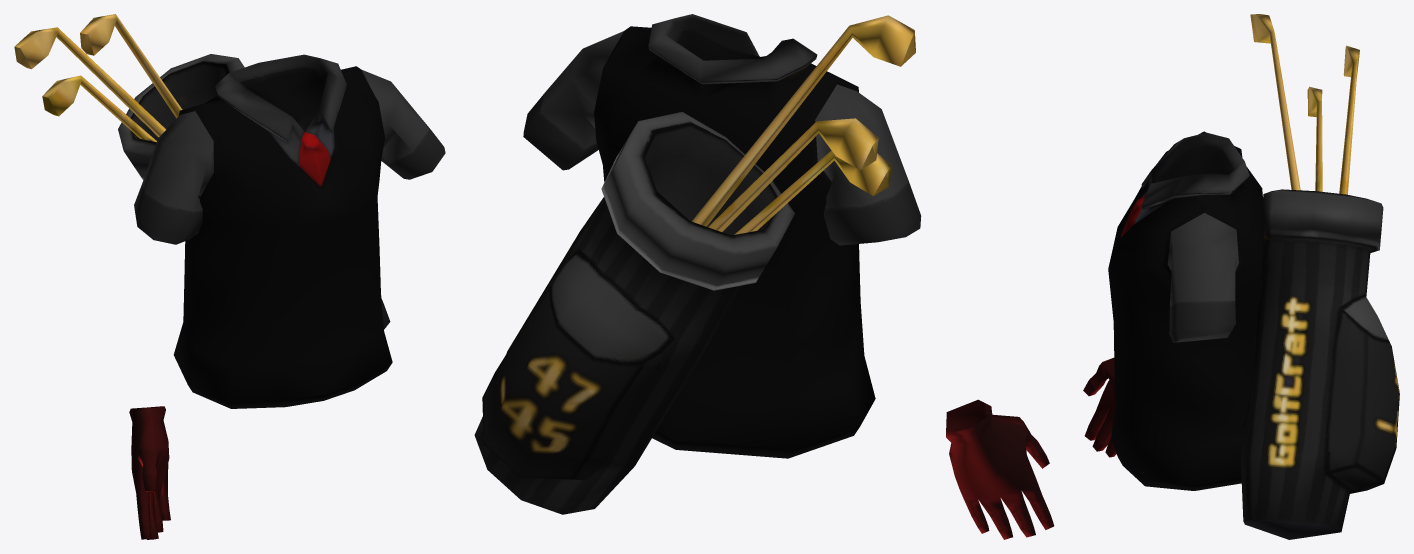
The model's file is omd-vest.glb.
3 renders of one model, left to right at view 1: azimuth 30°, elevation 25°; view 2: azimuth 150°, elevation 25°; view 3: azimuth 270°, elevation 25°, orthographic. The views are drawn at different scales.
Parts seen in each view (by area): view 1: M_golfcraft_vest.001; view 2: M_golfcraft_vest.001; view 3: M_golfcraft_vest.001.
Boxes of the visible parts, <box> form: M_golfcraft_vest.001: <box>14,14,445,539</box>; M_golfcraft_vest.001: <box>474,14,1054,539</box>; M_golfcraft_vest.001: <box>1083,14,1399,539</box>.
Bounding box in the file's own units: 1.44 × 1.78 × 1.13.
Materials: 1 (1 with a texture image).
